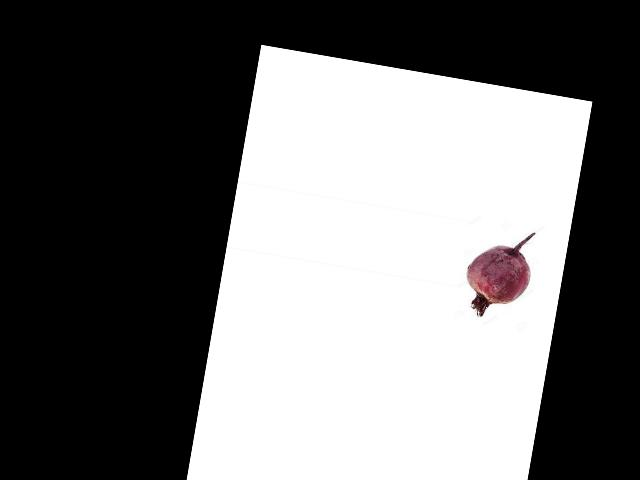beet: (460, 224, 537, 324)
